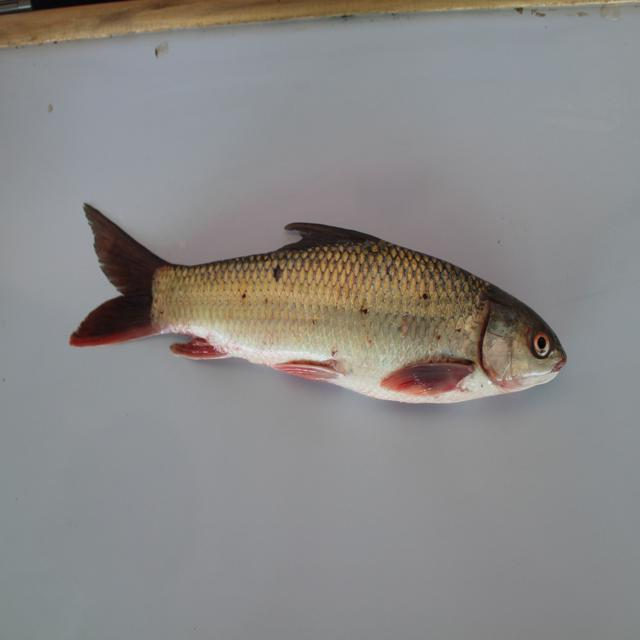Mori: (74, 193, 599, 421)
